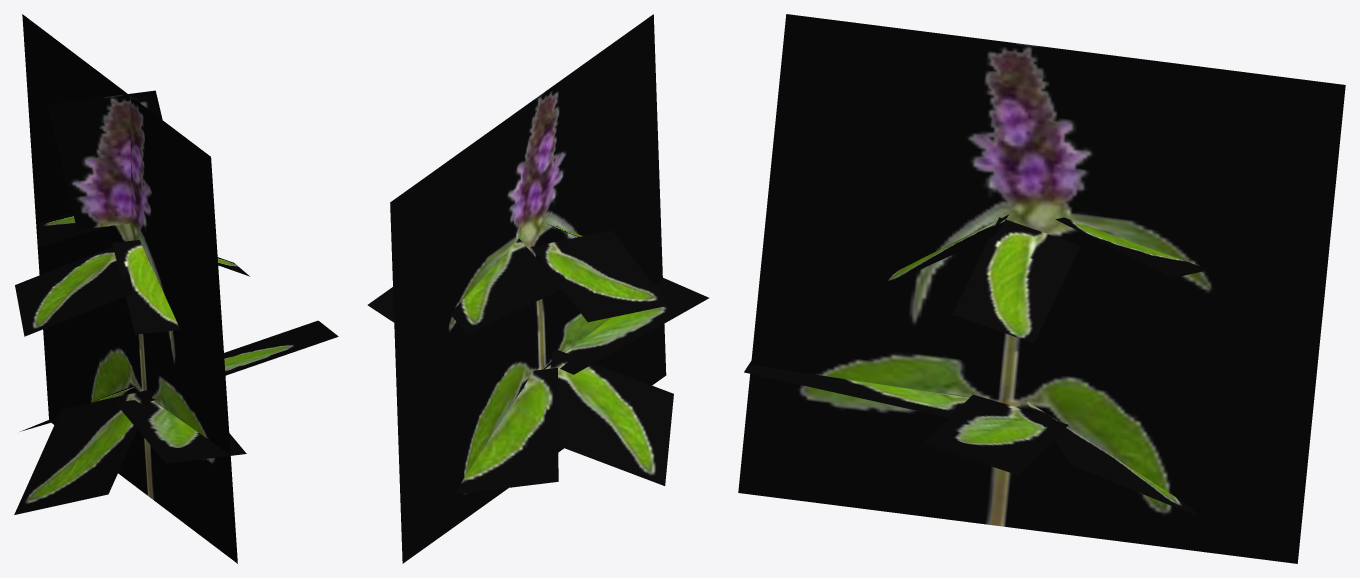
Rendered from 12_Prunella_vulgaris_small_001.fbx.
3 views of the same model, side by side, from view 1: azimuth 30°, elevation 25°; view 2: azimuth 150°, elevation 25°; view 3: azimuth 270°, elevation 25° (orthographic). The views are drawn at different scales.
Visible parts, largest first — view 1: 12_Prunella_vulgaris_small.001; view 2: 12_Prunella_vulgaris_small.001; view 3: 12_Prunella_vulgaris_small.001.
Part boxes in pixels (bbox=[...]): 12_Prunella_vulgaris_small.001: bbox=[14, 14, 338, 563]; 12_Prunella_vulgaris_small.001: bbox=[367, 14, 708, 563]; 12_Prunella_vulgaris_small.001: bbox=[738, 14, 1345, 563].
Size of the model in its own units: 0.0917 by 0.1229 by 0.1301.
